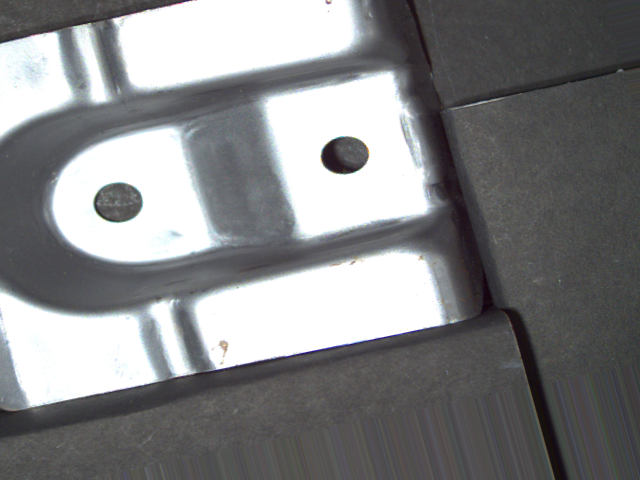defect: (92, 179, 147, 227)
